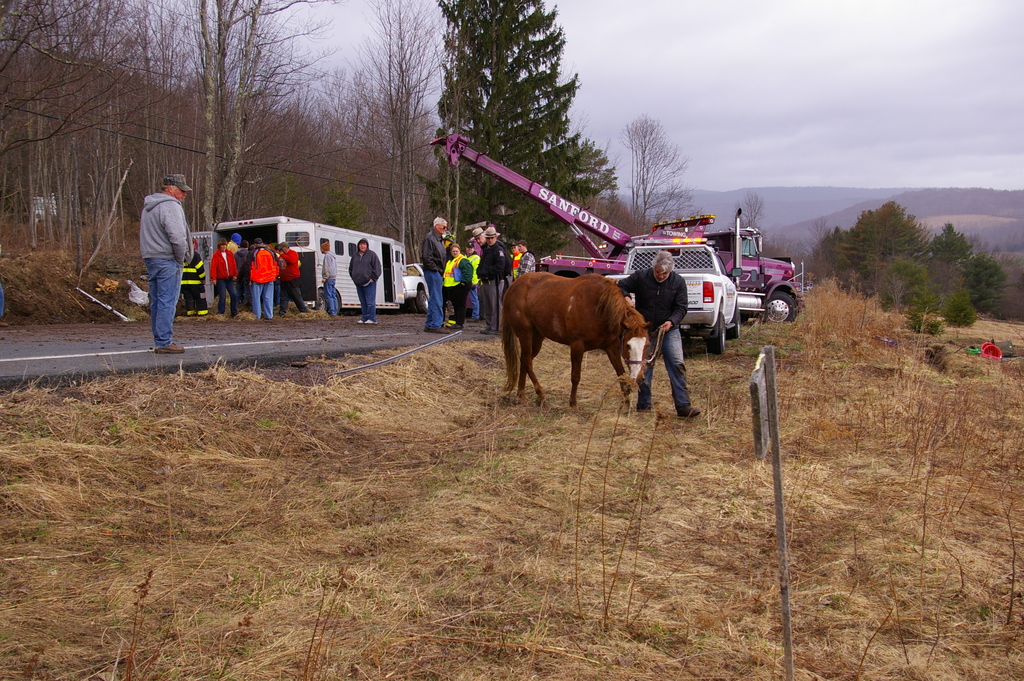horse: (501, 274, 650, 414)
